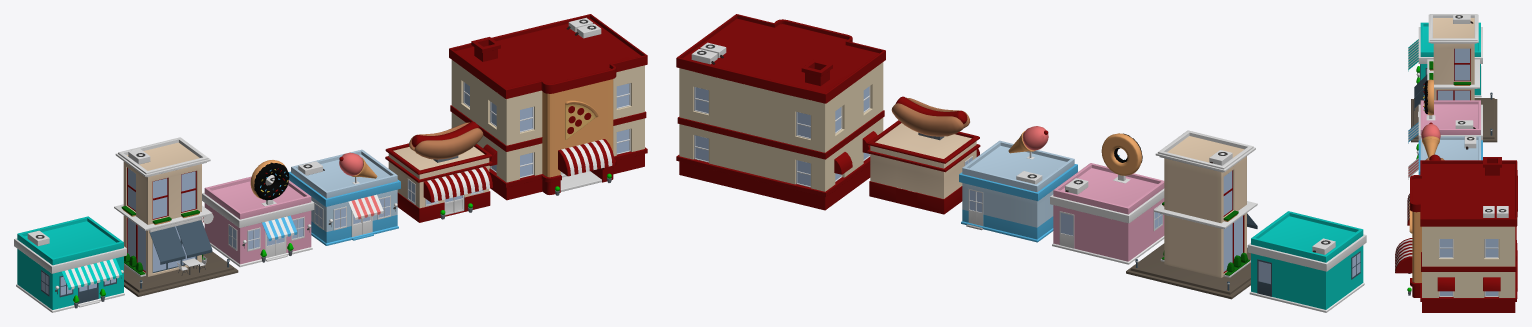
File: BUILDINGS.glb
The picture shows the model from 3 angles, left to right: view 1: azimuth 30°, elevation 25°; view 2: azimuth 150°, elevation 25°; view 3: azimuth 270°, elevation 25°; orthographic projection. The views are drawn at different scales.
Visible parts, largest first — view 1: pizzaria, coffe house, donut house, house, hotdog house, icescream house; view 2: pizzaria, coffe house, donut house, hotdog house, house, icescream house; view 3: pizzaria, coffe house, donut house, icescream house, house, hotdog house.
Boxes of the visible parts, left/top/right/bottom form: pizzaria: left=449, top=14, right=647, bottom=200; coffe house: left=114, top=137, right=238, bottom=296; donut house: left=202, top=160, right=314, bottom=266; house: left=14, top=216, right=126, bottom=312; hotdog house: left=385, top=121, right=492, bottom=222; icescream house: left=288, top=149, right=400, bottom=245; pizzaria: left=676, top=14, right=885, bottom=210; coffe house: left=1126, top=130, right=1257, bottom=299; donut house: left=1050, top=133, right=1164, bottom=264; hotdog house: left=866, top=96, right=980, bottom=214; house: left=1247, top=211, right=1366, bottom=312; icescream house: left=959, top=126, right=1077, bottom=242; pizzaria: left=1395, top=157, right=1517, bottom=312; coffe house: left=1411, top=14, right=1497, bottom=142; donut house: left=1408, top=79, right=1482, bottom=159; icescream house: left=1408, top=122, right=1482, bottom=179; house: left=1408, top=22, right=1482, bottom=97; hotdog house: left=1407, top=154, right=1444, bottom=225.
Bounding box in the file's own units: 16813 × 3265 × 3492.
